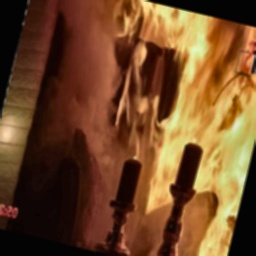fire: (107, 6, 256, 256)
